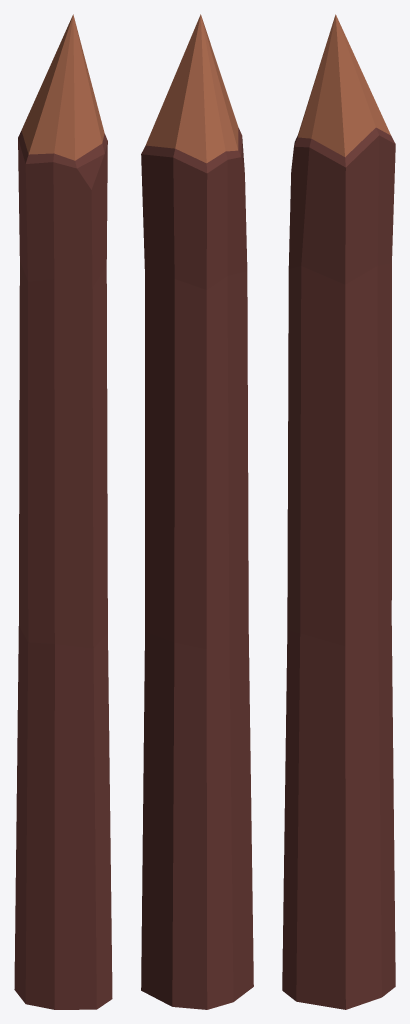
Rendered from Wooden Pole Sharp 09.fbx.
The picture shows the model from 3 angles, left to right: view 1: azimuth 90°, elevation 25°; view 2: azimuth 150°, elevation 25°; view 3: azimuth 330°, elevation 25°; orthographic projection.
Visible parts, largest first — view 1: Wooden Pole Sharp 09; view 2: Wooden Pole Sharp 09; view 3: Wooden Pole Sharp 09.
Boxes of the visible parts, left/top/right/bottom form: Wooden Pole Sharp 09: left=14, top=14, right=112, bottom=1009; Wooden Pole Sharp 09: left=141, top=14, right=253, bottom=1009; Wooden Pole Sharp 09: left=282, top=14, right=395, bottom=1009.
Bounding box in the file's own units: 25.77 × 292 × 26.59.
